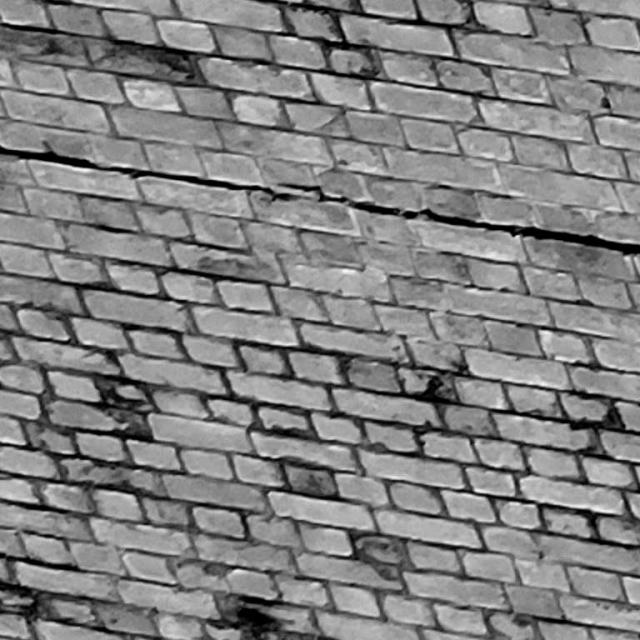crack: (1, 147, 640, 254)
